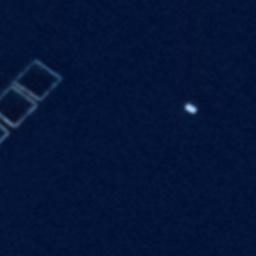square_solid: (11, 56, 63, 108), (1, 81, 41, 135)
